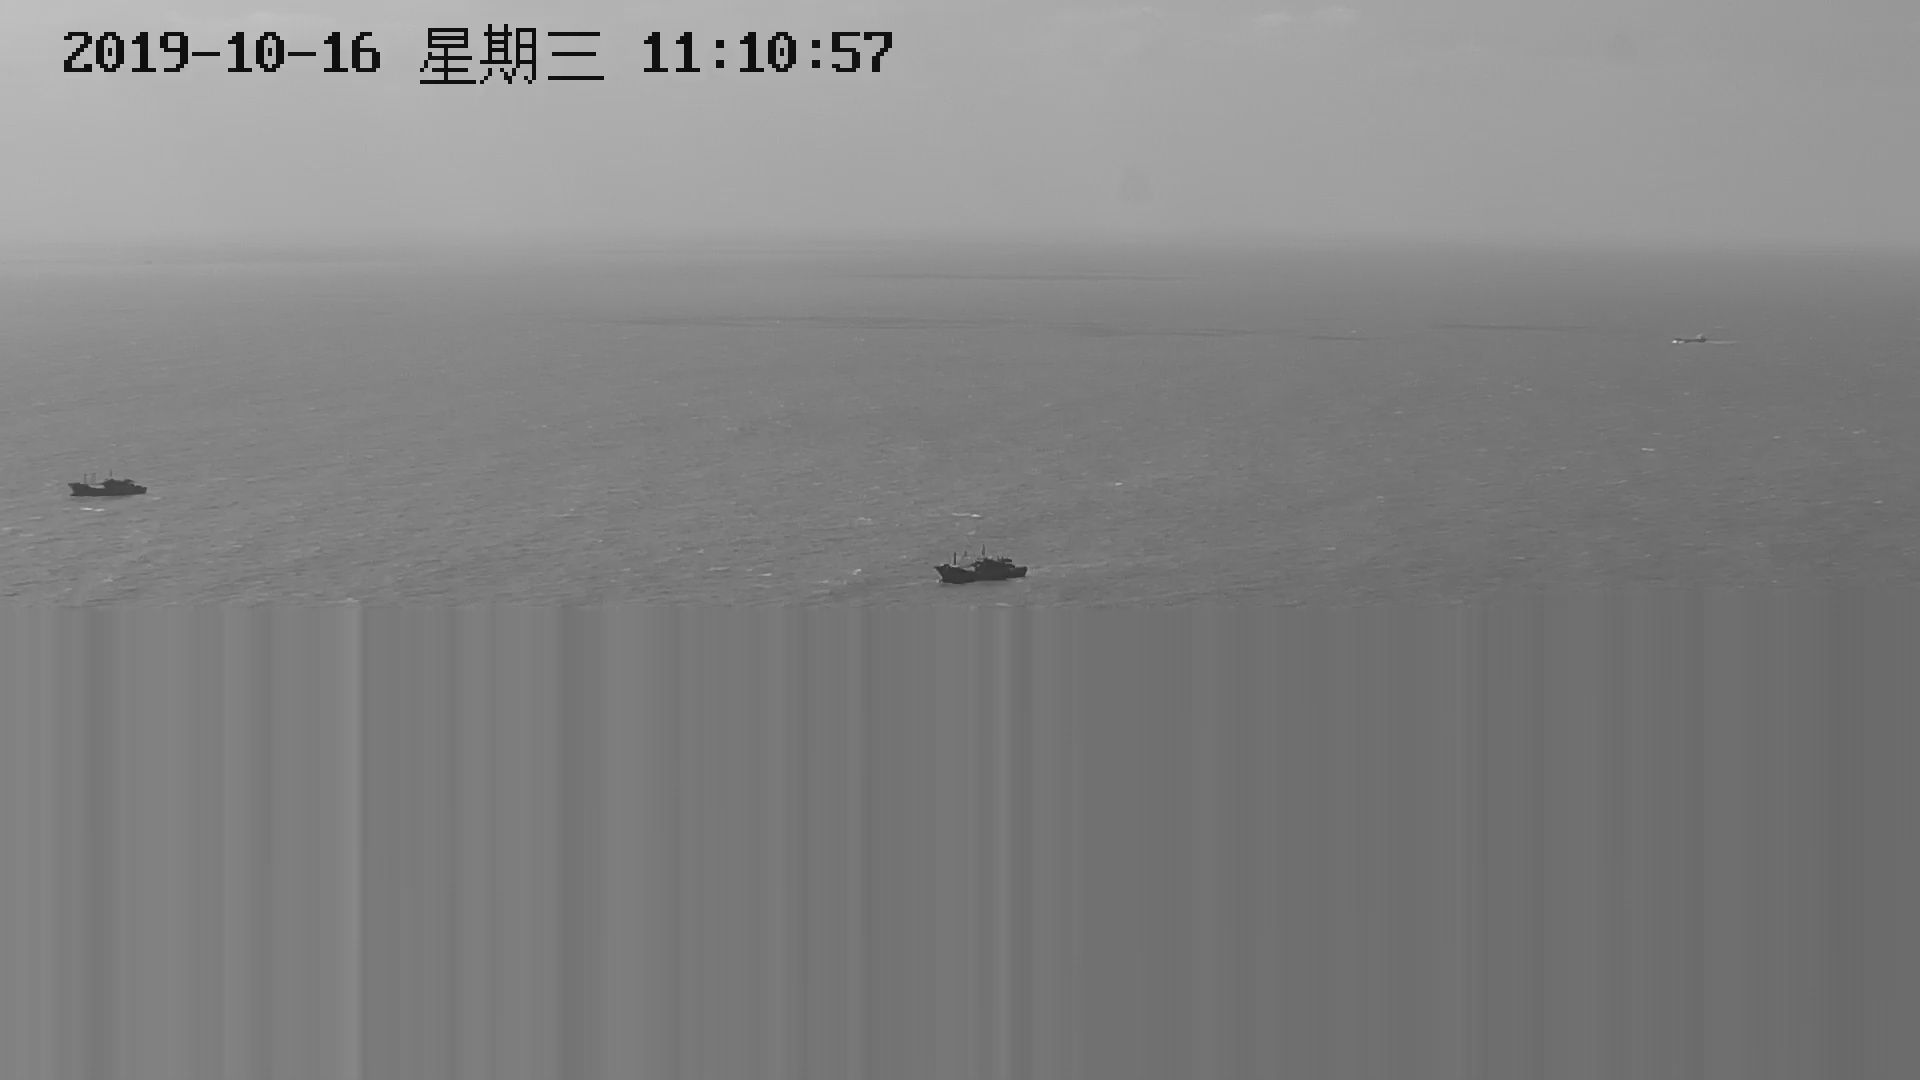ship: (935, 547, 1029, 584), (69, 467, 146, 502)
